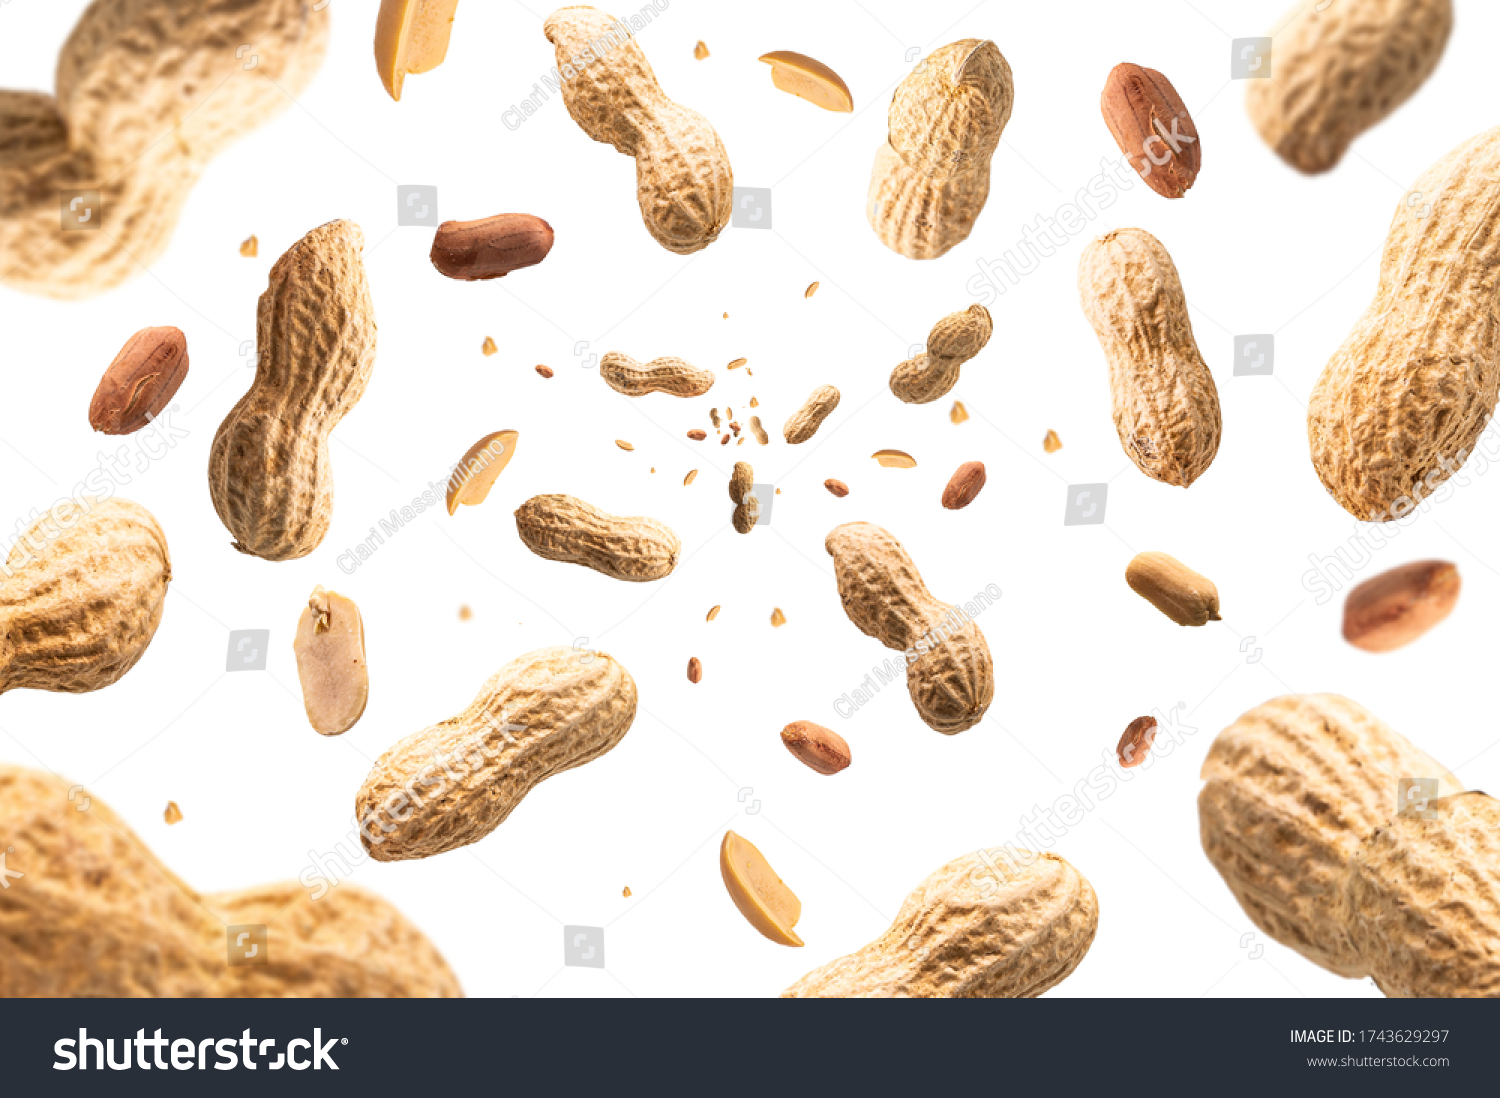kacang2: (334, 625, 651, 880), (191, 199, 374, 564), (511, 1, 747, 260), (806, 495, 1006, 742), (1071, 214, 1234, 500), (836, 2, 1016, 260), (512, 487, 686, 591), (593, 330, 721, 402), (774, 377, 856, 449)
